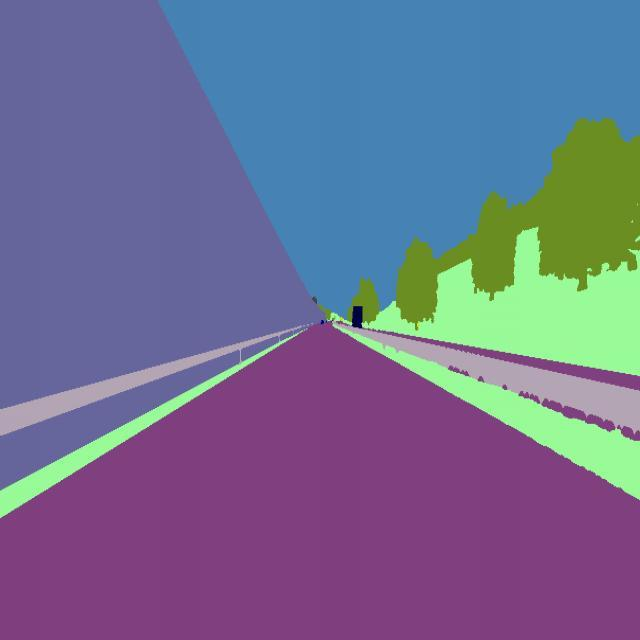safe: (350, 299, 366, 339)
